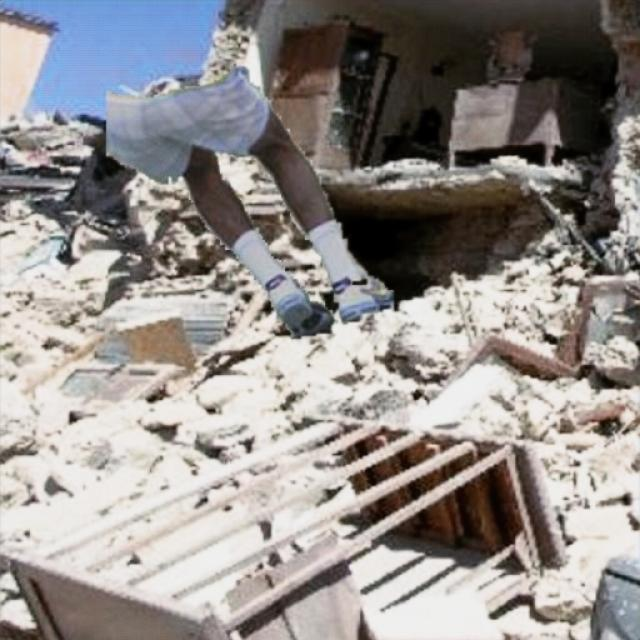Person in Rubble: (106, 64, 392, 338)
